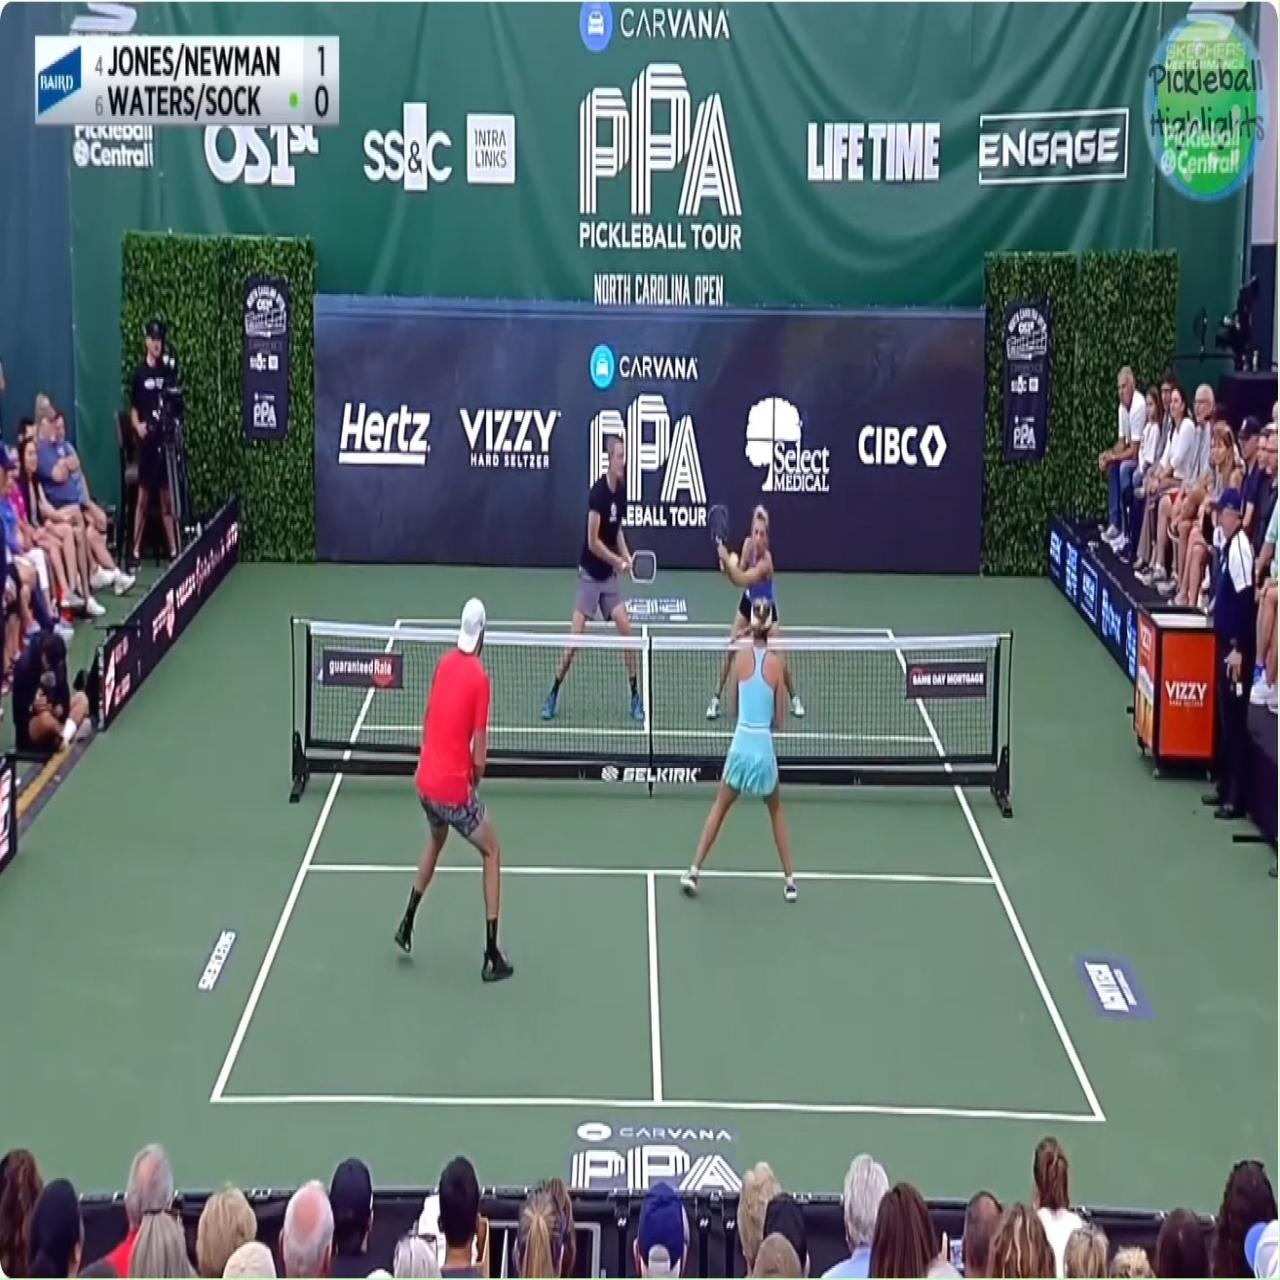pickleball: (729, 551, 738, 567)
